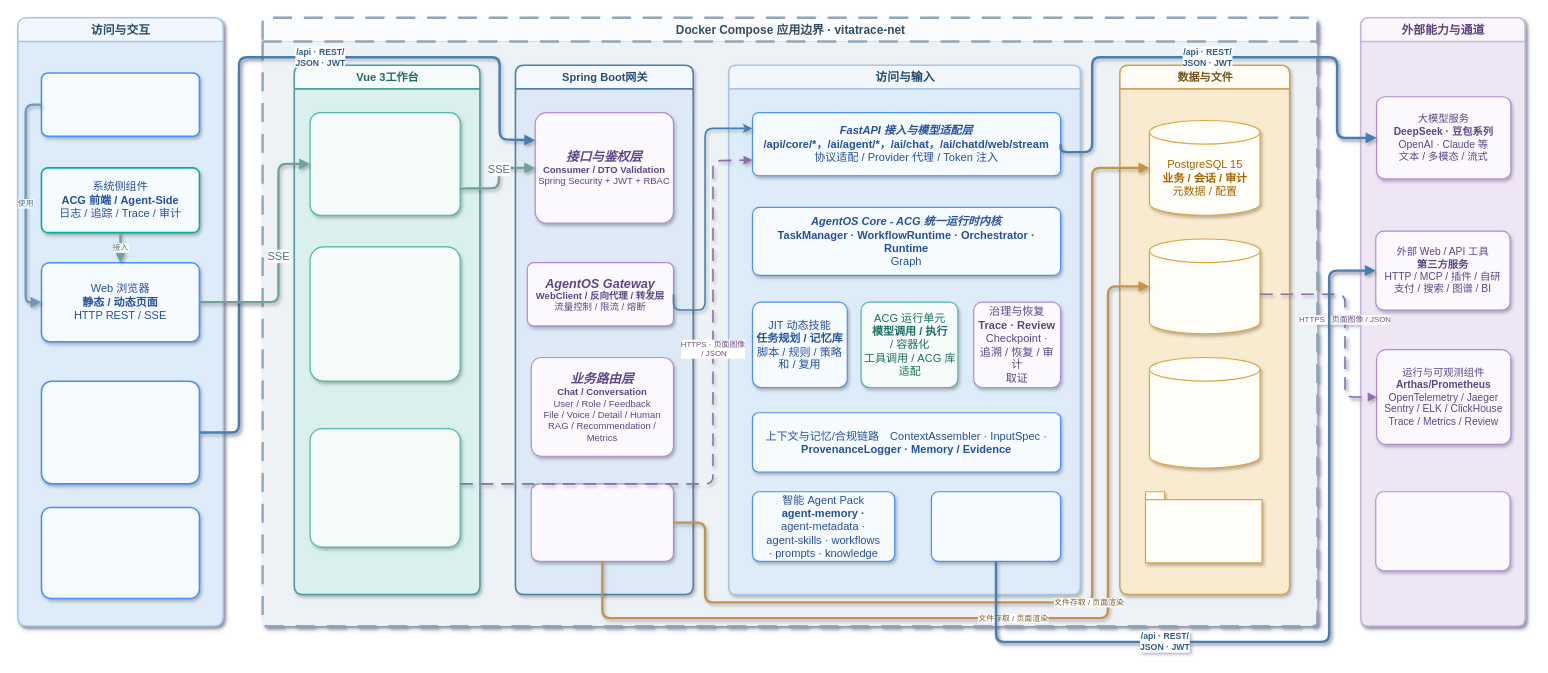
Some shapes in this 1548 by 673 pixel diagram are drawn without their labels. The shapes that lost their labels are listed below. From the top down, each one's centre as x and y in pixels, then its label:
At point 121,105: "业务用户 / 团队人员 Web / 企业微信 钉钉 / 飞书 / 二方 集成".
At point 385,164: "Vue 3 前端应用 TypeScript + Vite Element Plus + Nginx".
At point 1205,287: "Redis 7 缓存 / 会话 事务流".
At point 385,315: "业务工作区 Chat / 会话界面 AgentOS 智能体 ACG 观测可视化 Trace / Review 看板".
At point 121,433: "CLI / API 客户端 开发者 / 集成系统 Bearer Token / OAuth".
At point 1205,413: "AgentOS 文件/证据 Workflow / Evidence Trace · Logs · Cache".
At point 385,488: "前端基础能力 Vue Router 路由守护 Axios API 封装 SSE 流式通信 JWT 鉴权一键登出".
At point 602,523: "静态资源与中间能力层 JPA Repository / Flyway Redis Cache / Audit requestId".
At point 996,527: "工具与知识集成 Tool Catalog · RAG Retriever Vector Store · Ngin Index SDK".
At point 1204,528: "知识库文档存储 向量库 / 文档 / 索引 知识库 / 版本管理".
At point 1443,532: "消息通道 JWT Secret / 验证队列 / SSE / Kafka 消息推送 / 邮件 / 短信 / 钉钉".
At point 121,553: "外部能力 OAuth / Webhook 支付 / OCR / Search ACG Server / Model Service / Partner 等".
